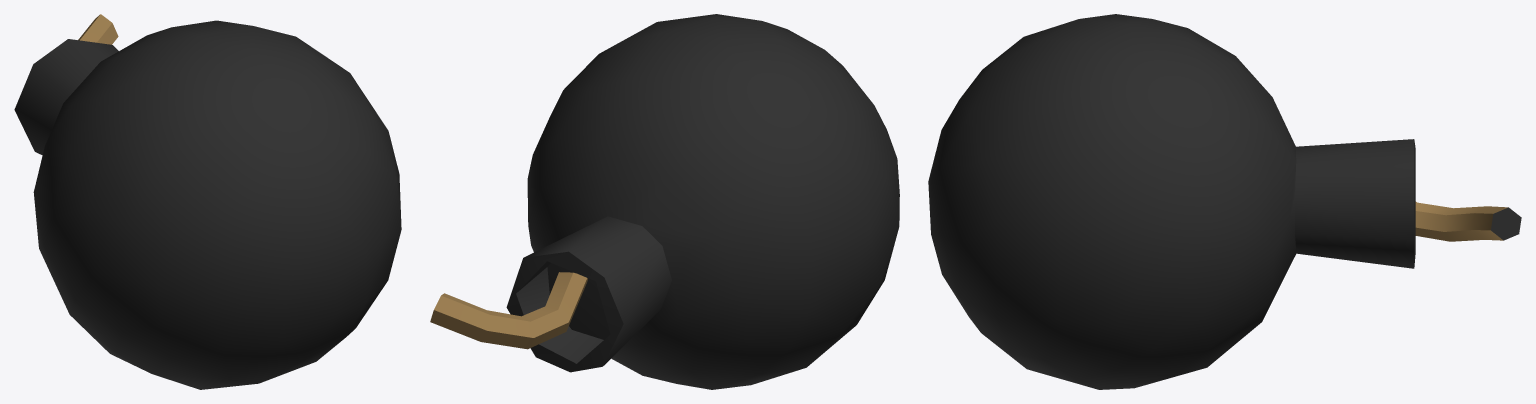
File: Bomb.fbx
3 renders of one model, left to right at view 1: azimuth 30°, elevation 25°; view 2: azimuth 150°, elevation 25°; view 3: azimuth 270°, elevation 25°, orthographic. The views are drawn at different scales.
Parts seen in each view (by area): view 1: Bomb; view 2: Bomb; view 3: Bomb.
Boxes of the visible parts, bbox=[...] form: Bomb: bbox=[14, 14, 401, 389]; Bomb: bbox=[430, 14, 899, 389]; Bomb: bbox=[928, 14, 1521, 389].
Bounding box in the file's own units: 2 × 2 × 3.16.
